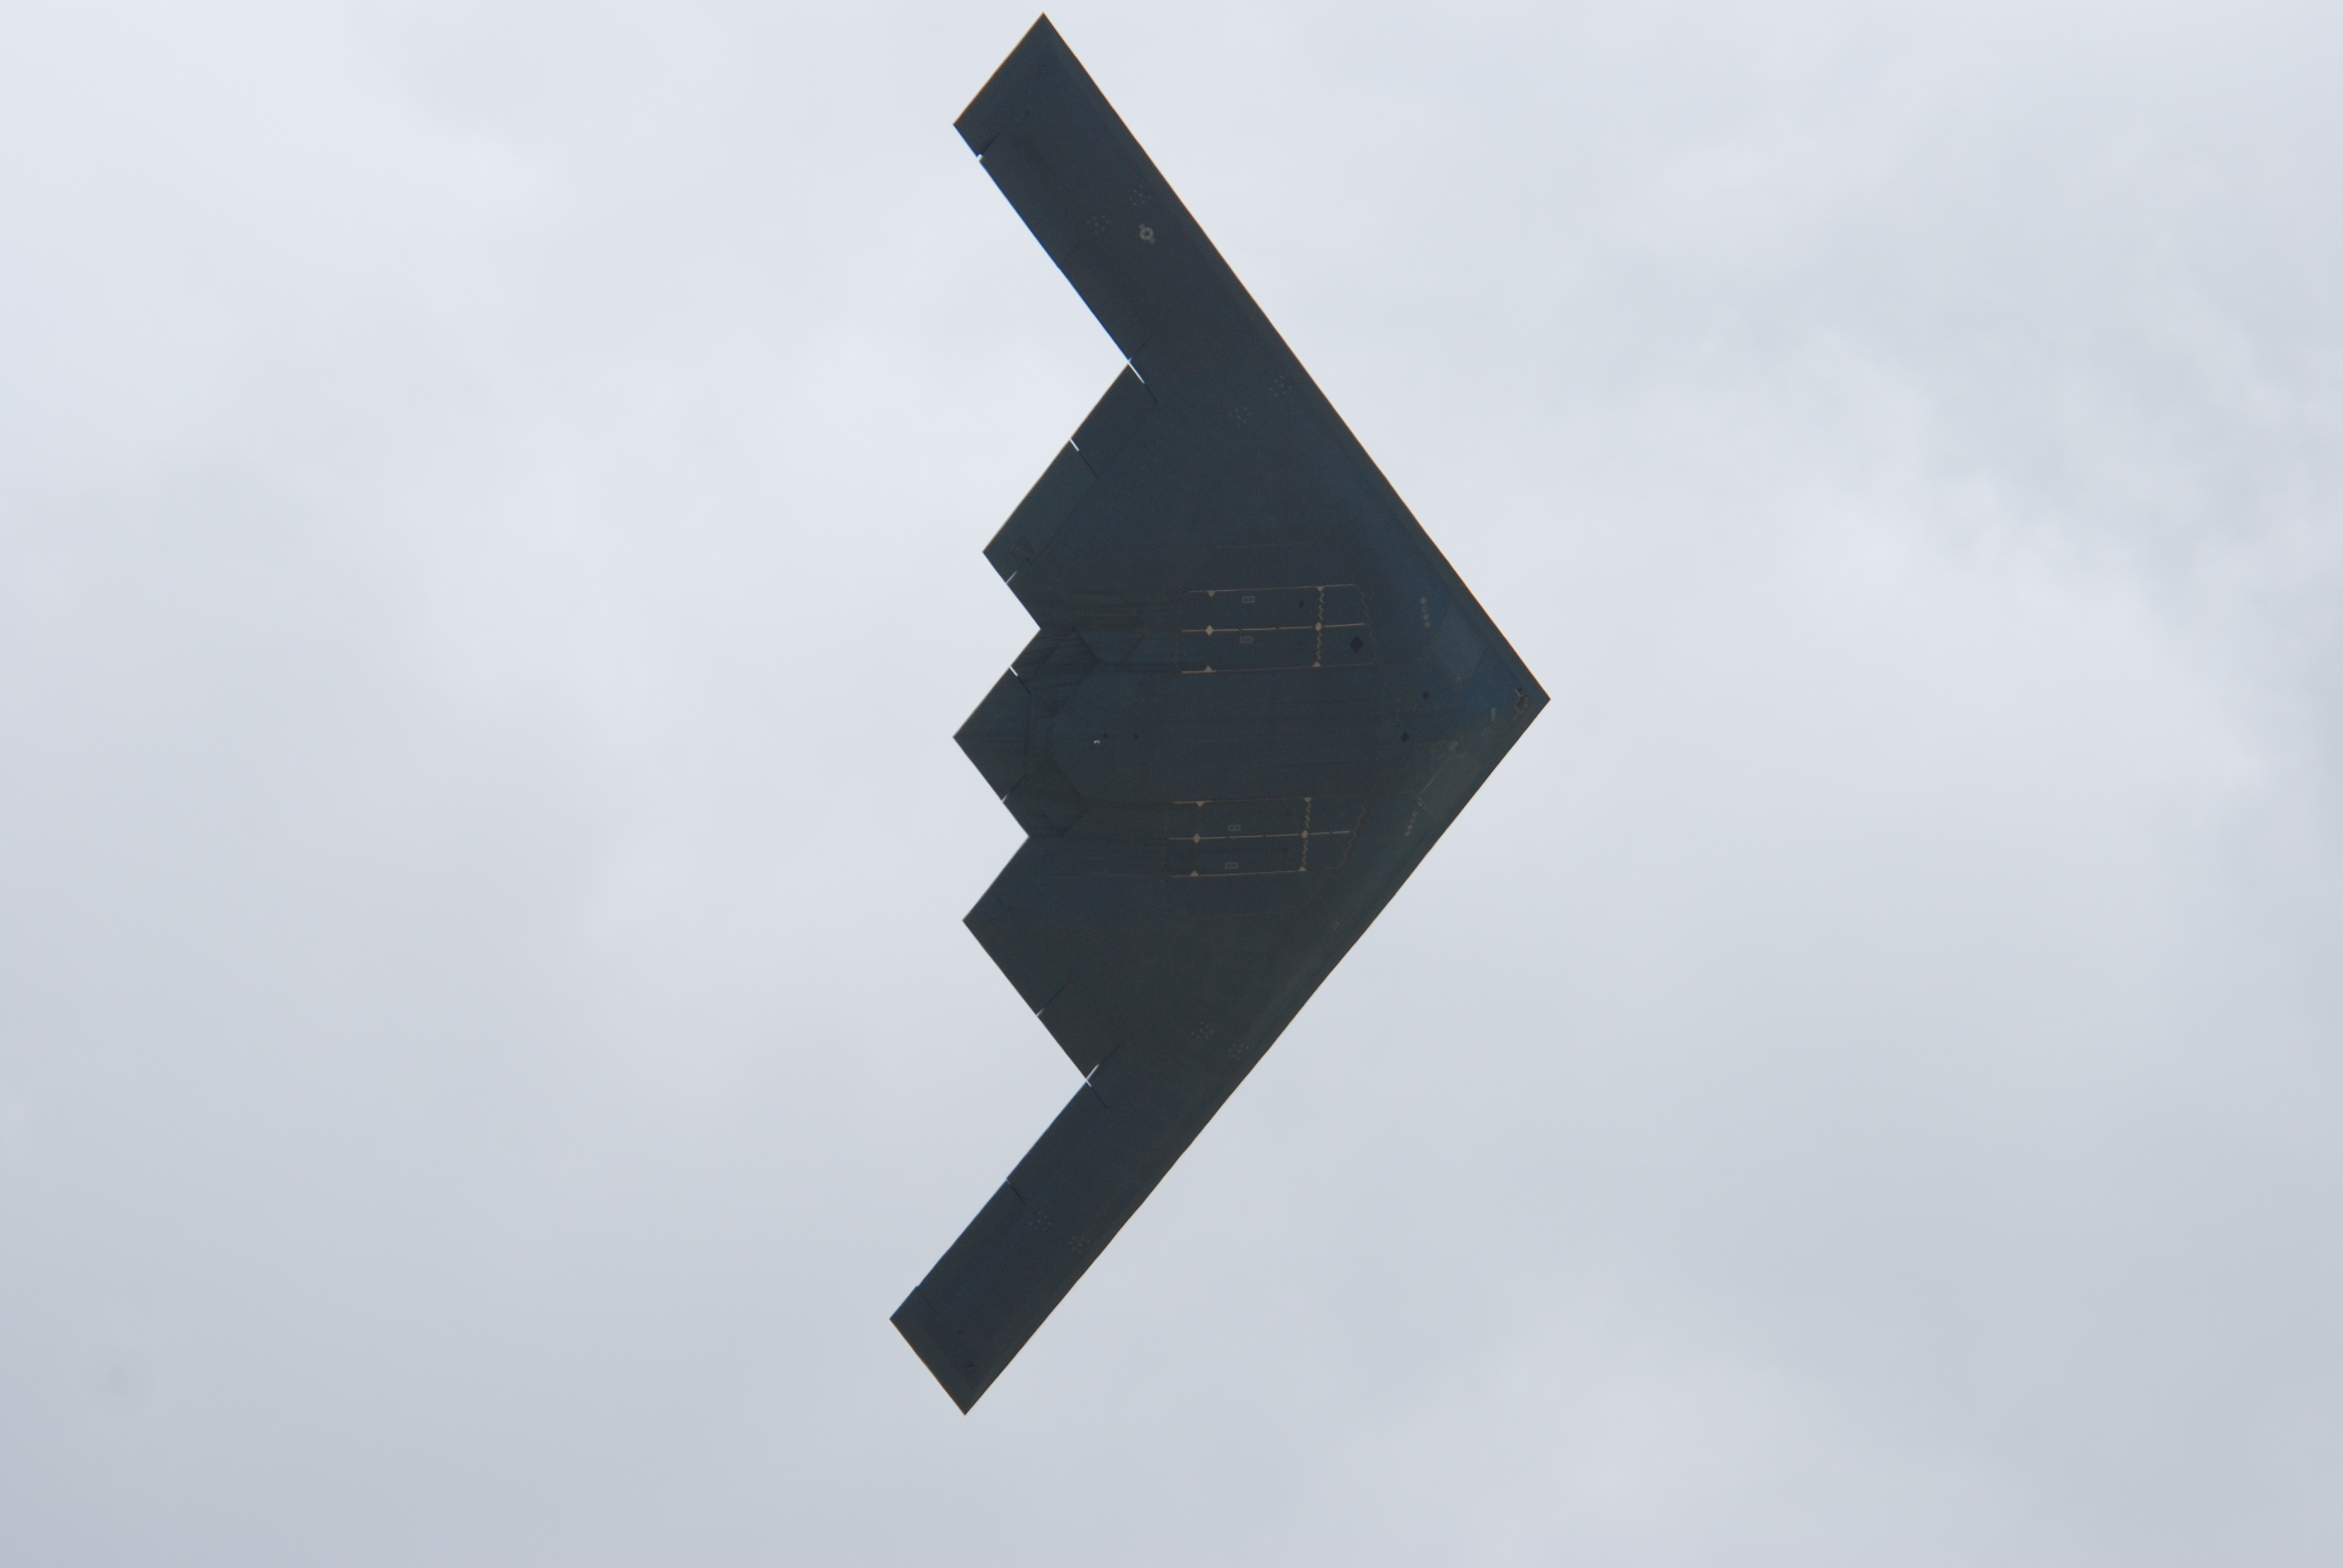B2: (889, 10, 1552, 1417)
